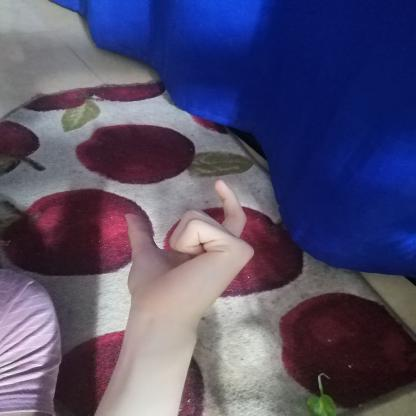NOON: (106, 172, 271, 330)
